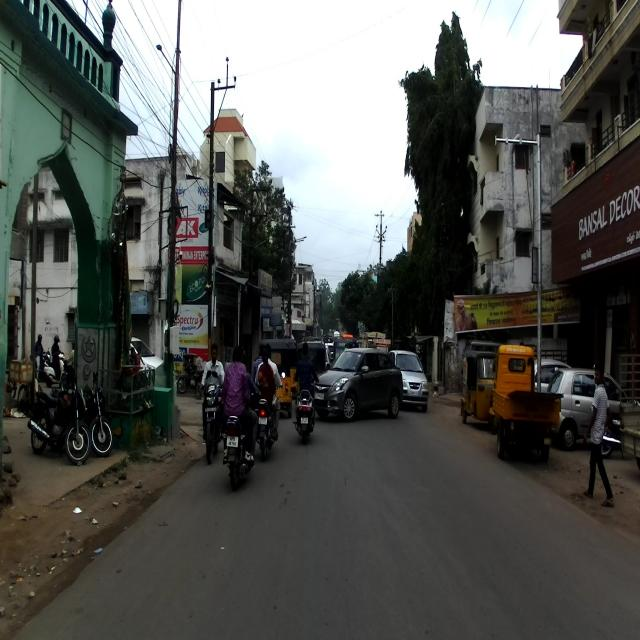autorickshaw: (491, 344, 564, 465)
car: (545, 365, 628, 453), (312, 347, 403, 422)
motorcycle: (28, 382, 89, 463), (221, 382, 259, 491), (254, 370, 285, 461), (199, 370, 221, 463)
scooter: (292, 373, 319, 445)
